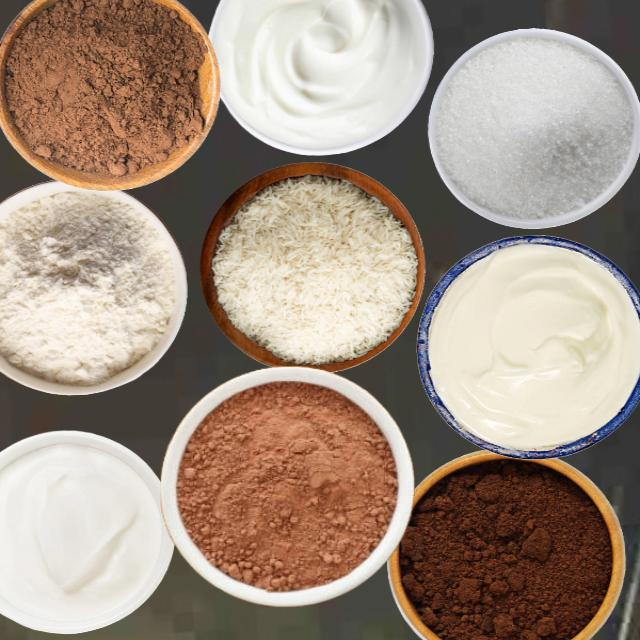Cocoa: (175, 379, 398, 592), (0, 0, 218, 188)
Coffee: (398, 457, 614, 639)
Flour: (432, 36, 633, 219), (0, 190, 176, 385)
